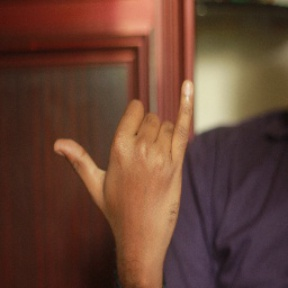J: (52, 72, 201, 235)
